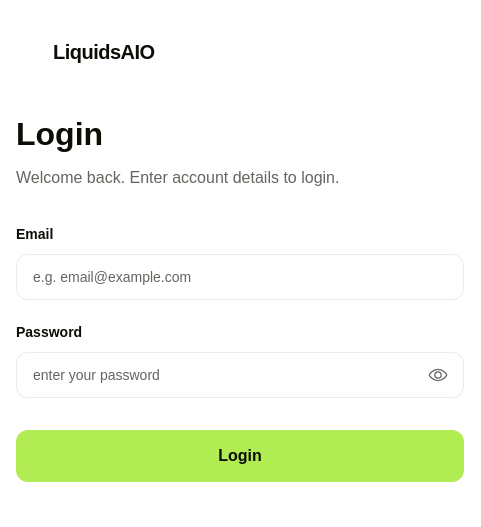
Test case: LoginPage › shows validation errors for invalid form input
In the field labelled "Email": (240, 277) top-left (16, 254), bottom-right (464, 300), type "invalid-email"
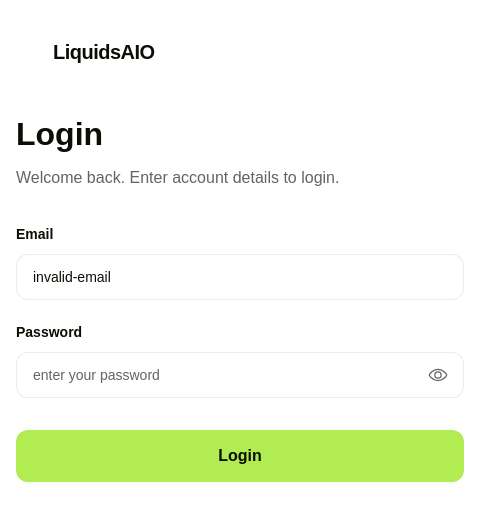
In the password field labelled "Password": (240, 375) top-left (16, 352), bottom-right (464, 398), type "short"
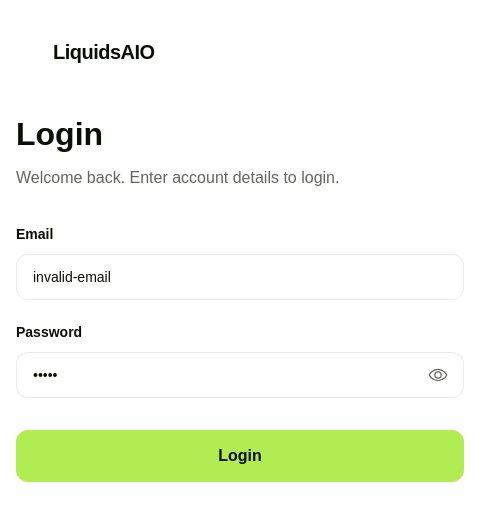
Click the button "Login": click(240, 456) top-left (16, 430), bottom-right (464, 482)
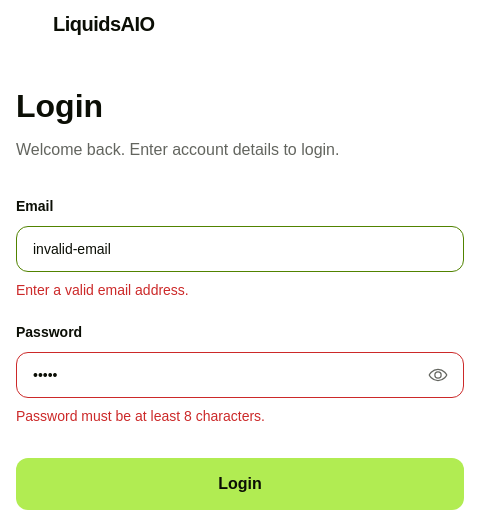
Expected: the text "Enter a valid email address." is shown, top-left (16, 282), bottom-right (189, 298)
Expected: the text "Password must be at least 8 characters." is shown, top-left (16, 408), bottom-right (265, 424)
